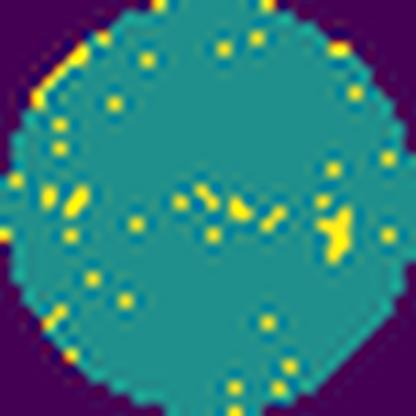Loc: (320, 206, 356, 266)
